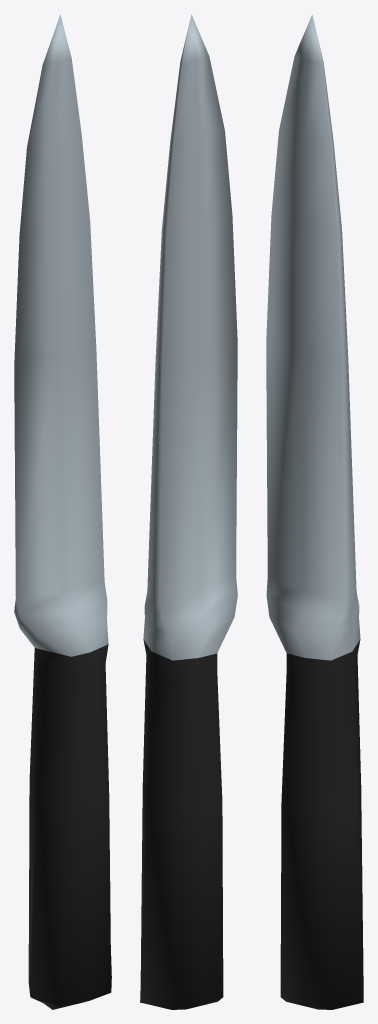
Rendered from knife.fbx.
The picture shows the model from 3 angles, left to right: view 1: azimuth 30°, elevation 25°; view 2: azimuth 210°, elevation 25°; view 3: azimuth 330°, elevation 25°; orthographic projection.
Visible parts, largest first — view 1: Knife medium; view 2: Knife medium; view 3: Knife medium.
Boxes of the visible parts, left/top/right/bottom form: Knife medium: left=14, top=14, right=111, bottom=1009; Knife medium: left=140, top=14, right=237, bottom=1009; Knife medium: left=266, top=14, right=363, bottom=1009.
Bounding box in the file's own units: 21.37 × 29.07 × 280.
